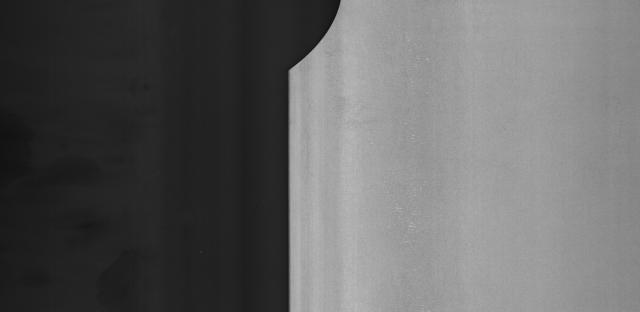crescent_gap: (277, 0, 350, 75)
